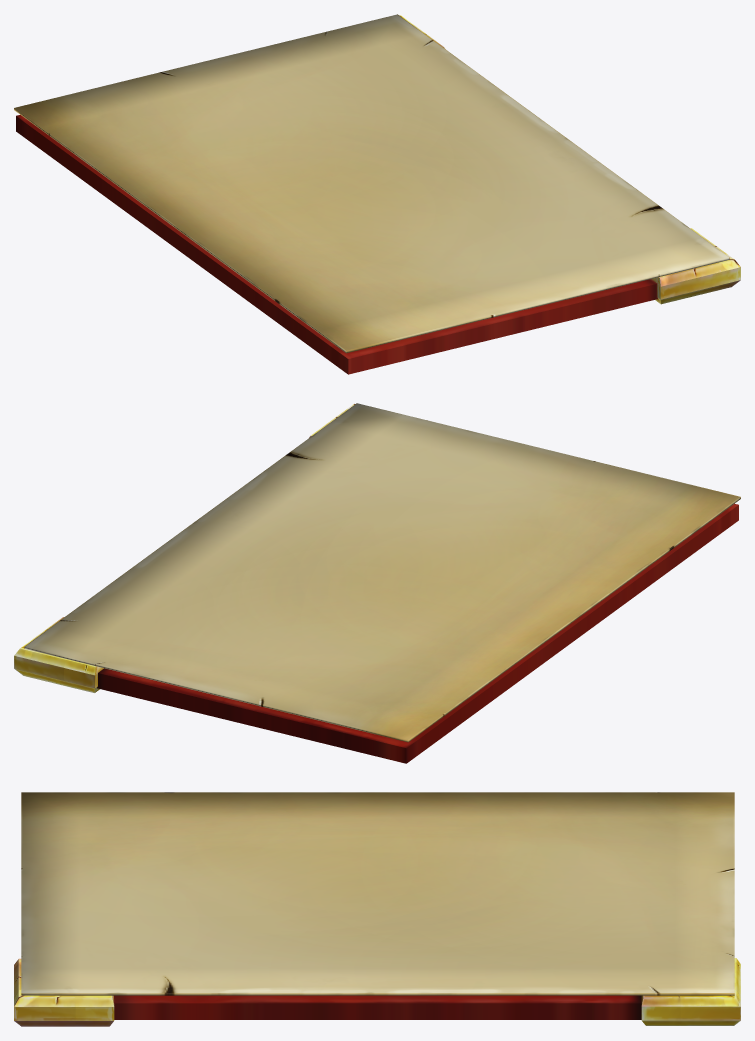
File: Animated_Book.fbx
3 renders of one model, top to bottom at view 1: azimuth 30°, elevation 25°; view 2: azimuth 150°, elevation 25°; view 3: azimuth 270°, elevation 25°, orthographic. The views are drawn at different scales.
Visible parts, largest first — view 1: Paper.001, BottomCover; view 2: Paper.001, BottomCover; view 3: Paper.001, BottomCover.
Part boxes in pixels (<box>): Paper.001: <box>14,14,729,353</box>; BottomCover: <box>16,15,740,374</box>; Paper.001: <box>24,403,740,742</box>; BottomCover: <box>14,404,738,763</box>; Paper.001: <box>21,792,734,995</box>; BottomCover: <box>14,958,740,1026</box>.
Bounding box in the file's own units: 2.04 × 0.1496 × 3.06.
2 materials, 2 textured.
